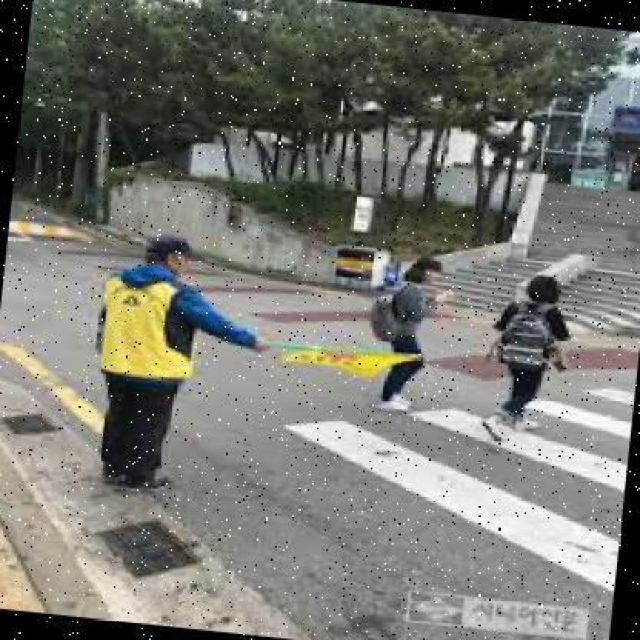Person: (84, 229, 279, 497), (476, 266, 573, 446), (362, 249, 461, 417)
